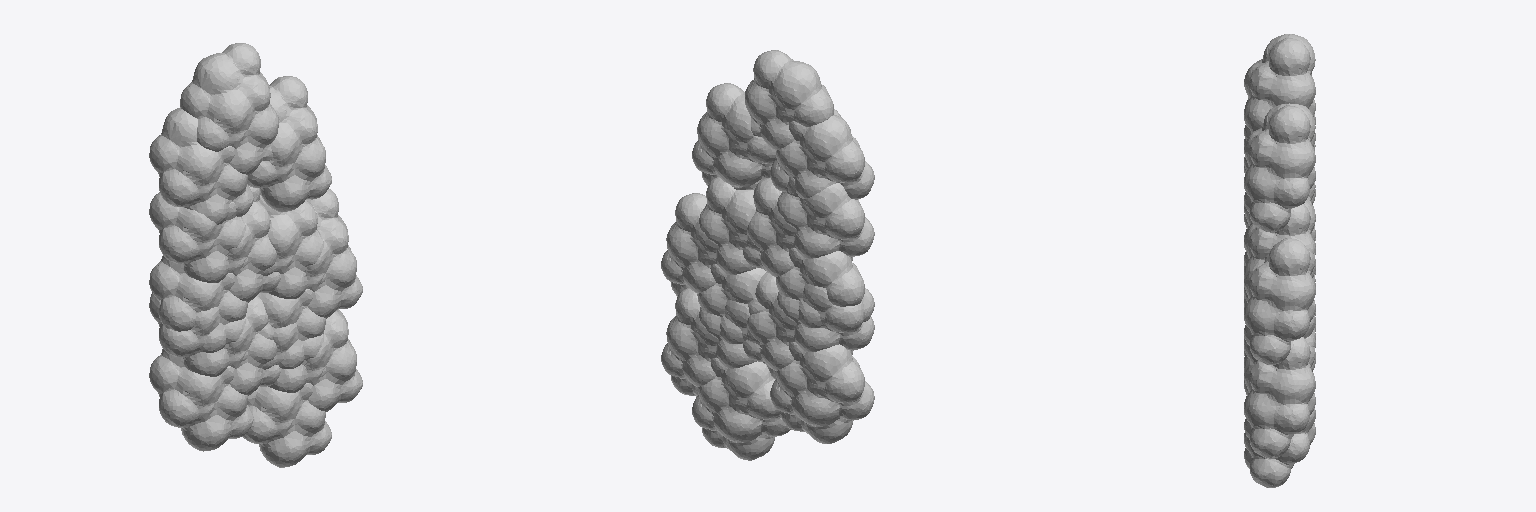
The model's file is cloud.obj.
3 views of the same model, side by side, from view 1: azimuth 30°, elevation 25°; view 2: azimuth 150°, elevation 25°; view 3: azimuth 270°, elevation 25° (orthographic).
Visible parts, largest first — view 1: Sphere116, Sphere114, Sphere120, Sphere106, Sphere110, Sphere126, Sphere112, Sphere107, Sphere113, Sphere128, Sphere111, Sphere108 (+3 smaller); view 2: Sphere106, Sphere126, Sphere114, Sphere116, Sphere120, Sphere110, Sphere112, Sphere128, Sphere107, Sphere113, Sphere108, Sphere111 (+3 smaller); view 3: Sphere120, Sphere107, Sphere128, Sphere116, Sphere113, Sphere126.
Boxes of the visible parts, x1,y1,x2,y2 form: Sphere116: [180, 43, 278, 175]; Sphere114: [149, 107, 253, 224]; Sphere120: [247, 76, 331, 211]; Sphere106: [149, 349, 253, 451]; Sphere110: [149, 192, 247, 282]; Sphere126: [242, 383, 331, 467]; Sphere112: [149, 256, 247, 352]; Sphere107: [305, 189, 362, 318]; Sphere113: [259, 195, 325, 298]; Sphere128: [305, 309, 362, 411]; Sphere111: [227, 186, 280, 302]; Sphere108: [149, 292, 247, 376]; Sphere106: [770, 342, 874, 443]; Sphere126: [692, 358, 790, 460]; Sphere114: [770, 115, 874, 199]; Sphere116: [745, 50, 840, 150]; Sphere120: [692, 83, 776, 189]; Sphere110: [776, 176, 874, 260]; Sphere112: [776, 248, 874, 327]; Sphere128: [661, 288, 718, 396]; Sphere107: [661, 193, 718, 296]; Sphere113: [698, 177, 759, 274]; Sphere108: [776, 284, 874, 354]; Sphere111: [743, 178, 796, 276]; Sphere120: [1244, 103, 1315, 232]; Sphere107: [1244, 238, 1315, 364]; Sphere128: [1244, 337, 1315, 458]; Sphere116: [1244, 34, 1315, 140]; Sphere113: [1244, 200, 1315, 302]; Sphere126: [1244, 373, 1315, 487].
Bounding box in the file's own units: 98.33 × 200 × 31.01.